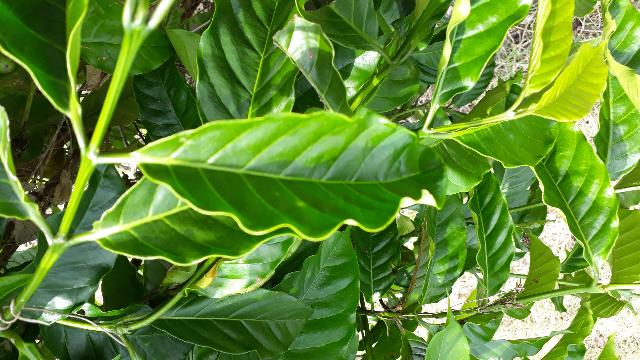healthy: (191, 123, 506, 252)
